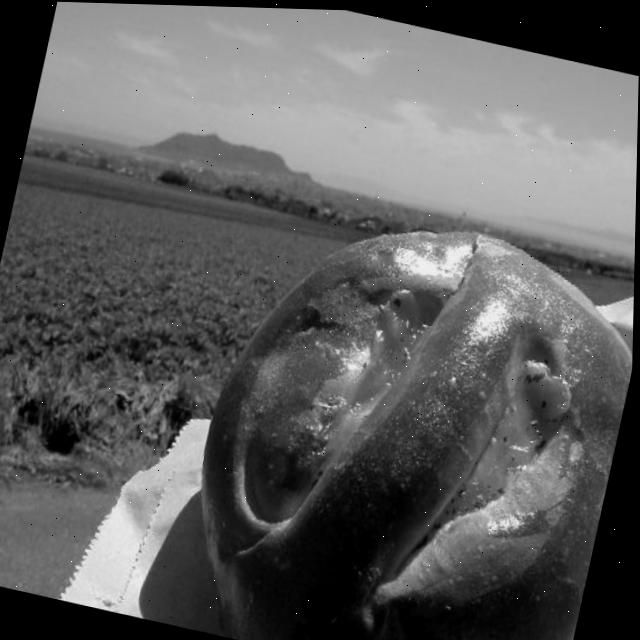三明治: (159, 159, 637, 640)
